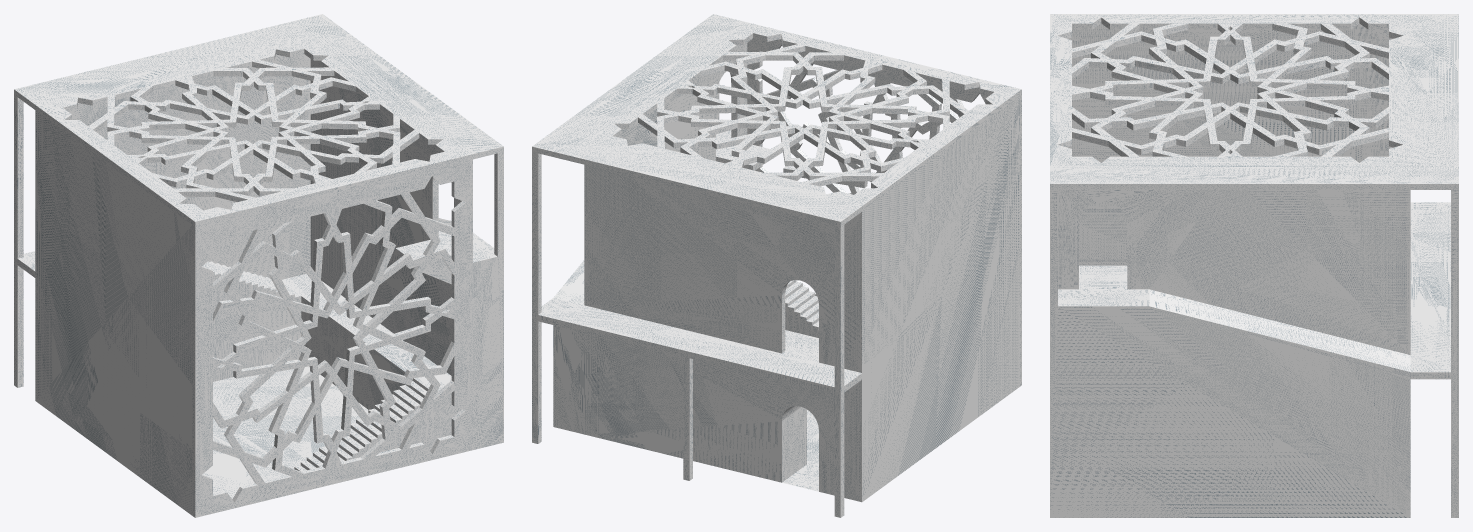
Rendered from building tres.dae.
3 renders of one model, left to right at view 1: azimuth 30°, elevation 25°; view 2: azimuth 150°, elevation 25°; view 3: azimuth 270°, elevation 25°, orthographic. The views are drawn at different scales.
Parts seen in each view (by area): view 1: SketchUp, group_0; view 2: SketchUp, group_0; view 3: SketchUp.
Part boxes in pixels (x1,y1,x2,y2): SketchUp: (14,14,503,517); group_0: (294,381,432,471); SketchUp: (532,14,1021,517); group_0: (785,280,818,337); SketchUp: (1050,14,1458,517).
Bounding box in the file's own units: 600 × 610 × 550.
